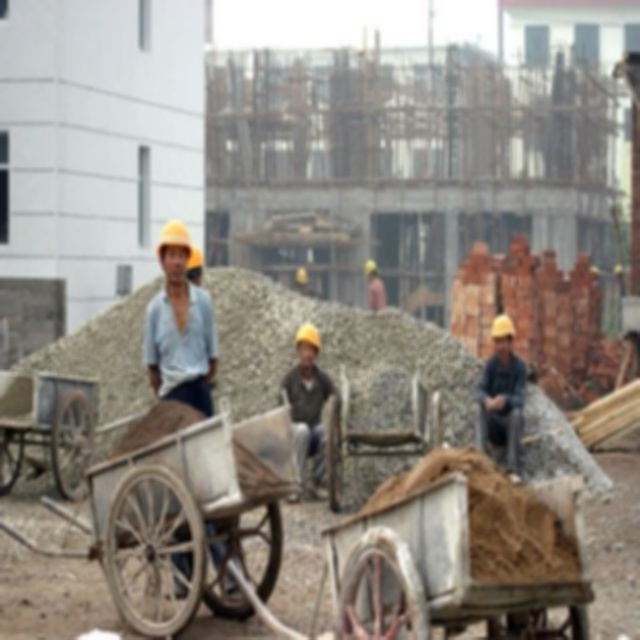Con_Casco: (156, 221, 192, 279), (295, 323, 322, 367), (490, 314, 514, 357)
